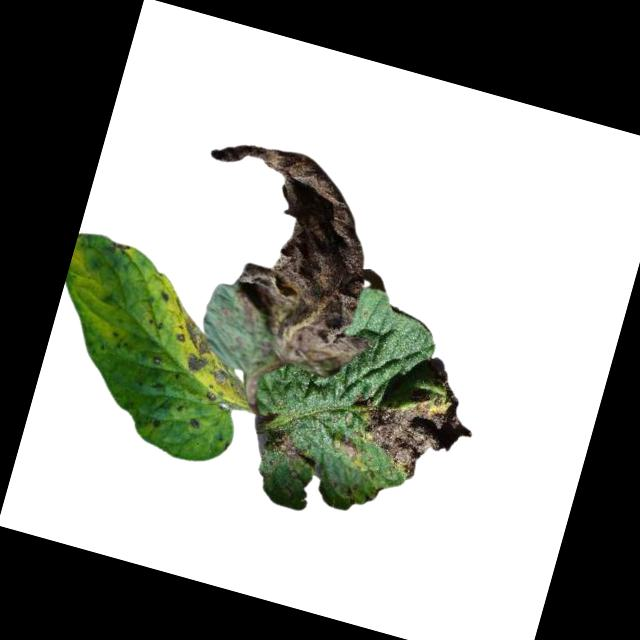Early_blight: (159, 130, 415, 384), (350, 368, 484, 495), (157, 305, 264, 407), (252, 424, 321, 468), (331, 433, 362, 464), (184, 416, 202, 433), (150, 353, 163, 368), (155, 291, 170, 304)
